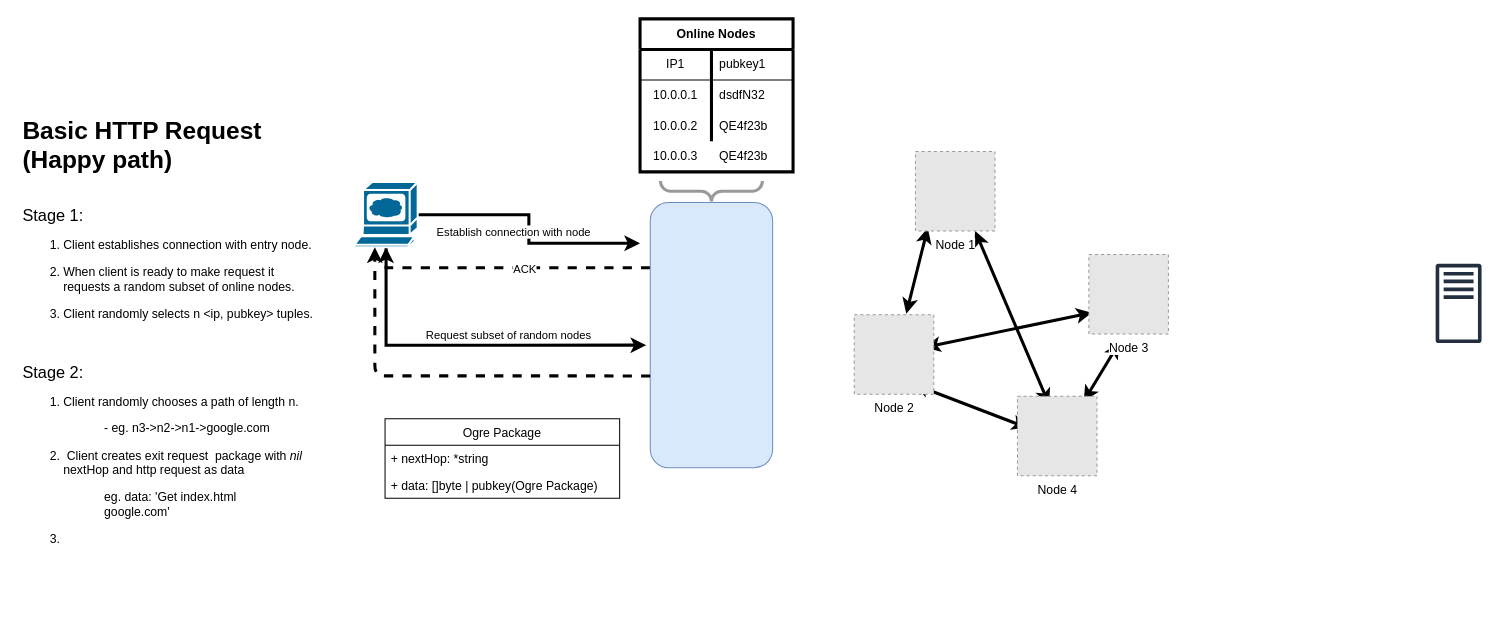
Image size: 1508x618. Some labels were removed from this diagram. Grey dashed boxes stand in for pictures. Each missing label, with the centre of its shape:
"Entry Node" belongs at pixel 711 334.
"google.com" belongs at pixel 1458 303.
